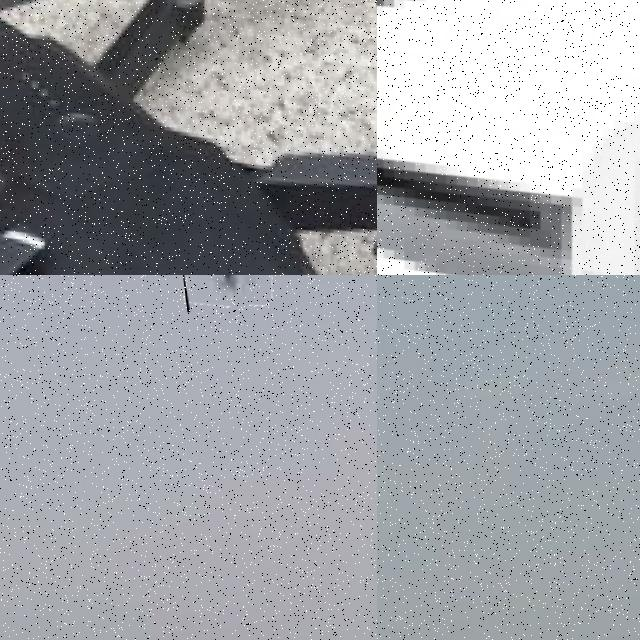drone: (0, 0, 377, 275), (377, 0, 640, 275), (178, 275, 276, 311)
